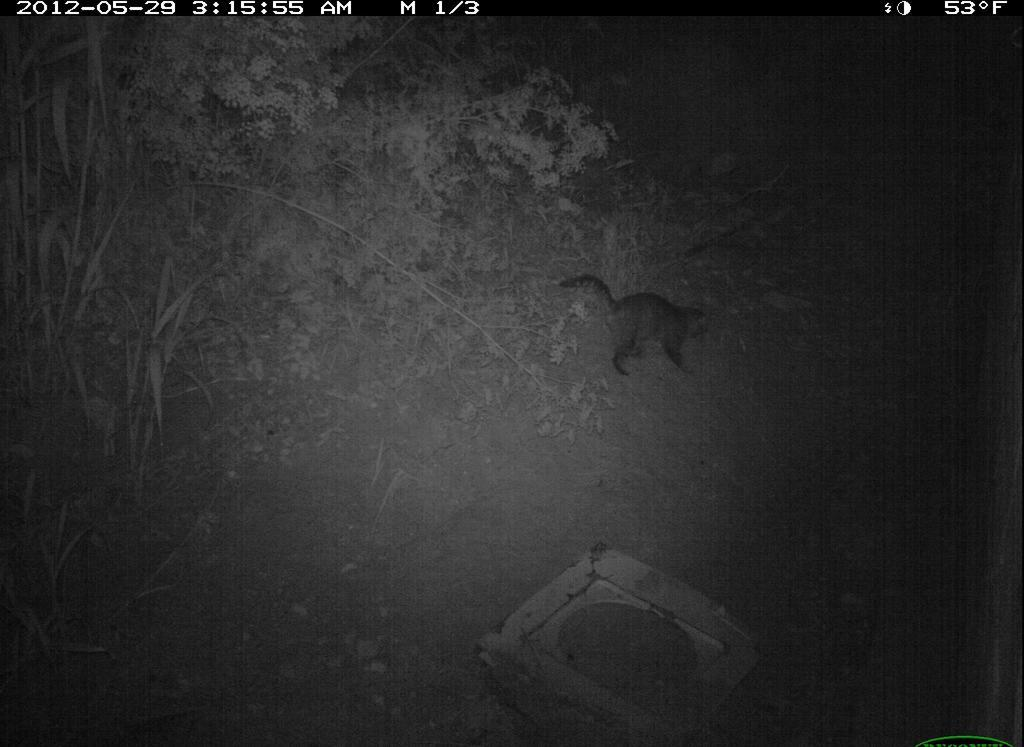cat: (559, 257, 716, 377)
